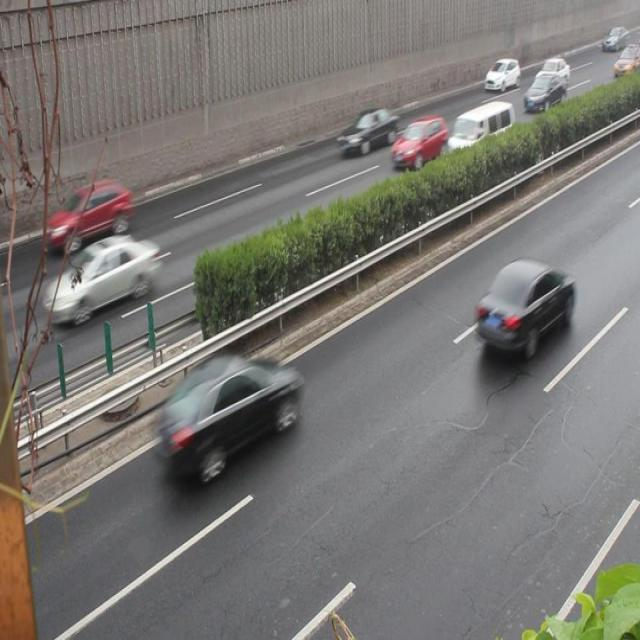car: (156, 356, 298, 478), (42, 234, 159, 324), (474, 256, 573, 354), (46, 179, 131, 252), (337, 105, 396, 159), (391, 114, 445, 168), (521, 73, 564, 112), (483, 58, 519, 94), (532, 56, 568, 89)
truck: (444, 100, 514, 168)
